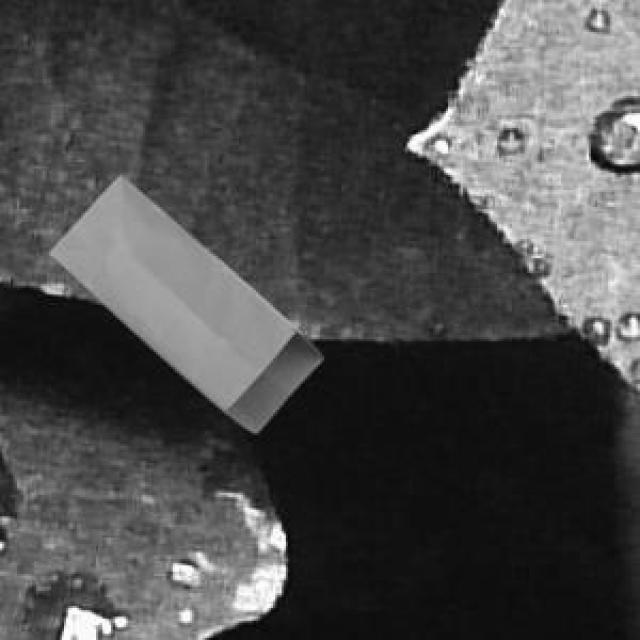paper: (47, 171, 318, 429)
